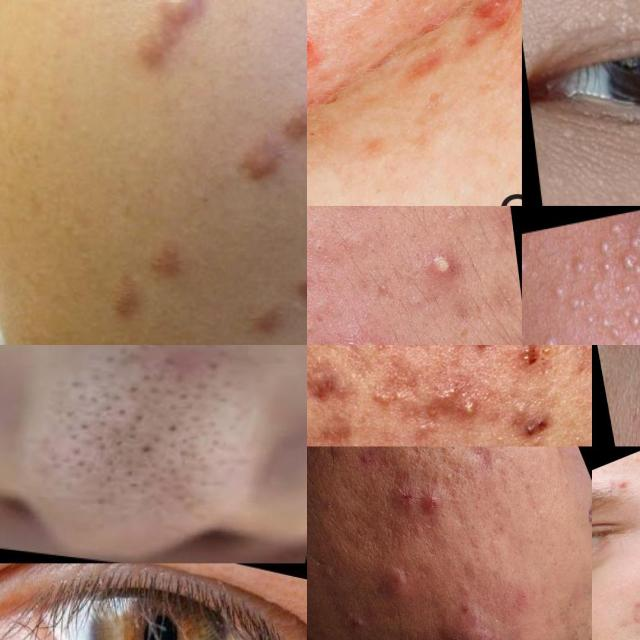acne_scars: (463, 446, 501, 481), (307, 34, 323, 81)
comedone: (57, 388, 130, 436), (49, 427, 117, 477), (115, 409, 184, 458), (111, 353, 180, 400), (163, 420, 224, 466), (96, 452, 153, 490), (337, 602, 376, 640), (311, 239, 329, 262), (635, 450, 640, 470)
cystic: (424, 598, 516, 640), (373, 557, 416, 605), (419, 482, 454, 525)
keloid: (230, 91, 307, 186), (126, 0, 208, 73)
milium: (552, 0, 640, 49), (597, 219, 640, 283), (570, 286, 598, 332), (598, 308, 623, 345), (620, 295, 640, 336), (568, 248, 588, 282), (616, 276, 638, 305), (550, 278, 569, 308), (543, 327, 561, 345), (636, 271, 640, 301)
papule: (358, 453, 438, 530)
pustule: (422, 240, 457, 304), (448, 385, 496, 431)
sebo-crystan-conglo: (307, 364, 344, 411), (346, 330, 389, 345)
